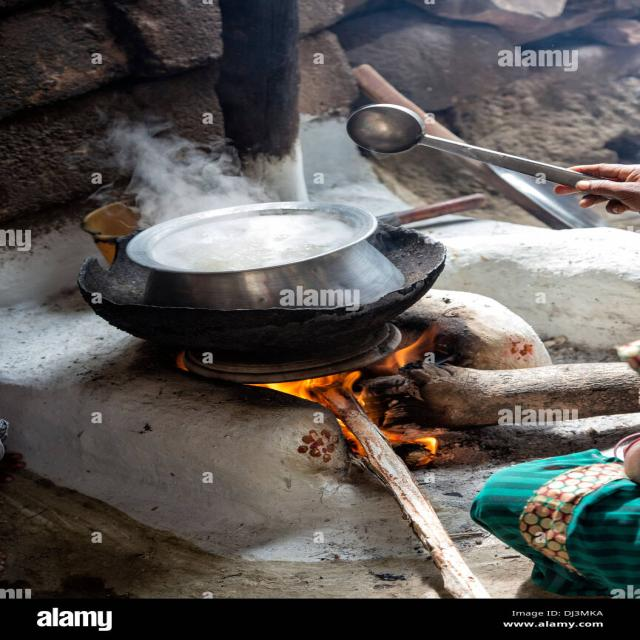fire: (242, 371, 367, 414), (367, 324, 439, 375), (380, 430, 438, 466), (335, 418, 368, 457)
